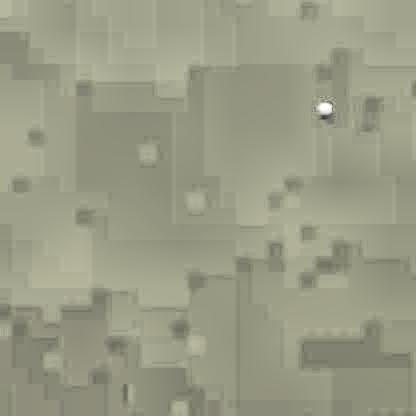golfball: (314, 98, 331, 116)
